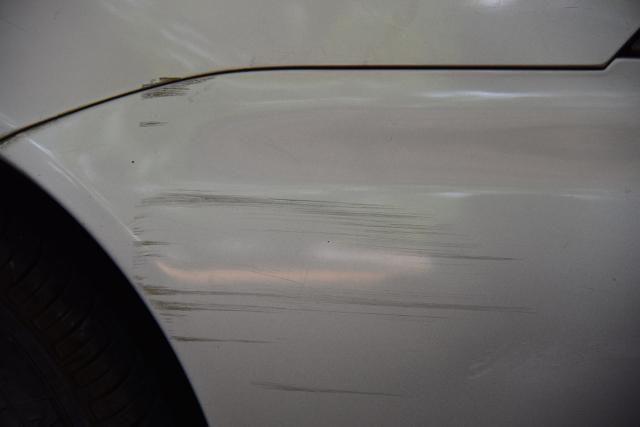scratch: (130, 75, 533, 405)
